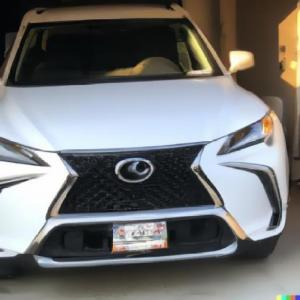Plate: (112, 221, 167, 252)
